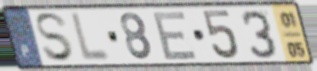3: (242, 9, 279, 60)
5: (200, 9, 241, 61)
8: (120, 12, 153, 61)
E: (151, 9, 200, 62)
L: (69, 10, 113, 63)
S: (33, 11, 76, 64)
